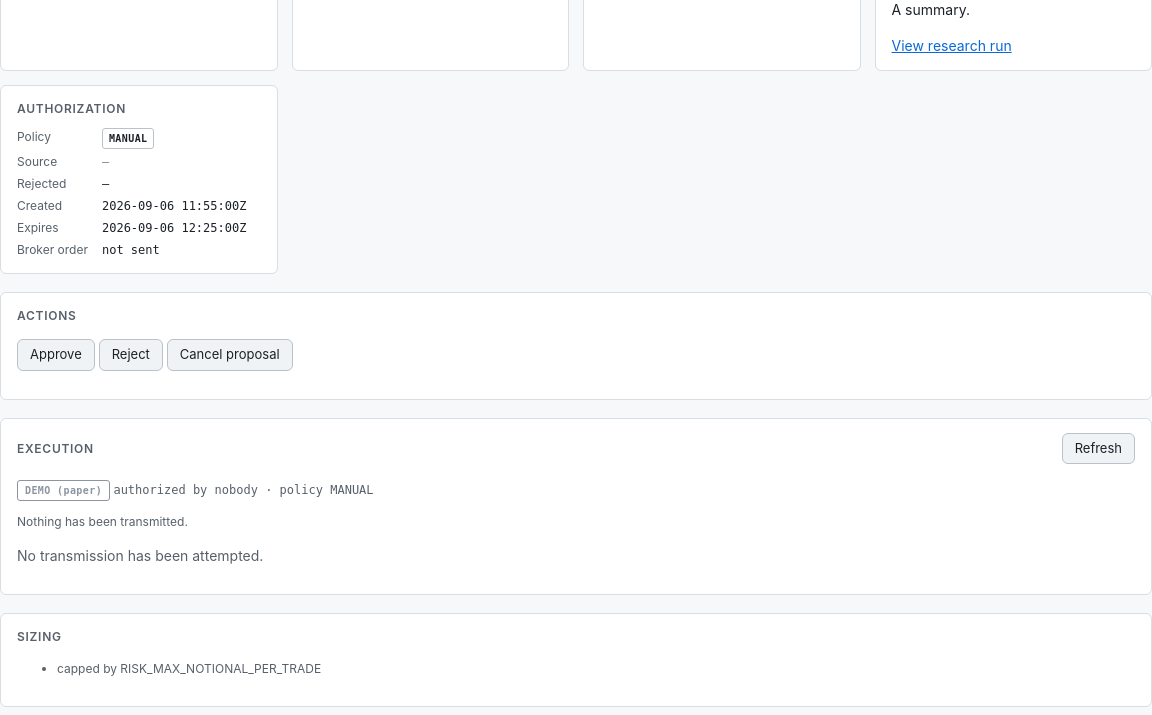
Test case: Proposal authorization › can be backed out of without sending anything
(page scrolled)
What coordinates should you click on to do the following:
click the button "Approve"
I would click on:
 (56, 355)
Its box is [17,339,95,371].
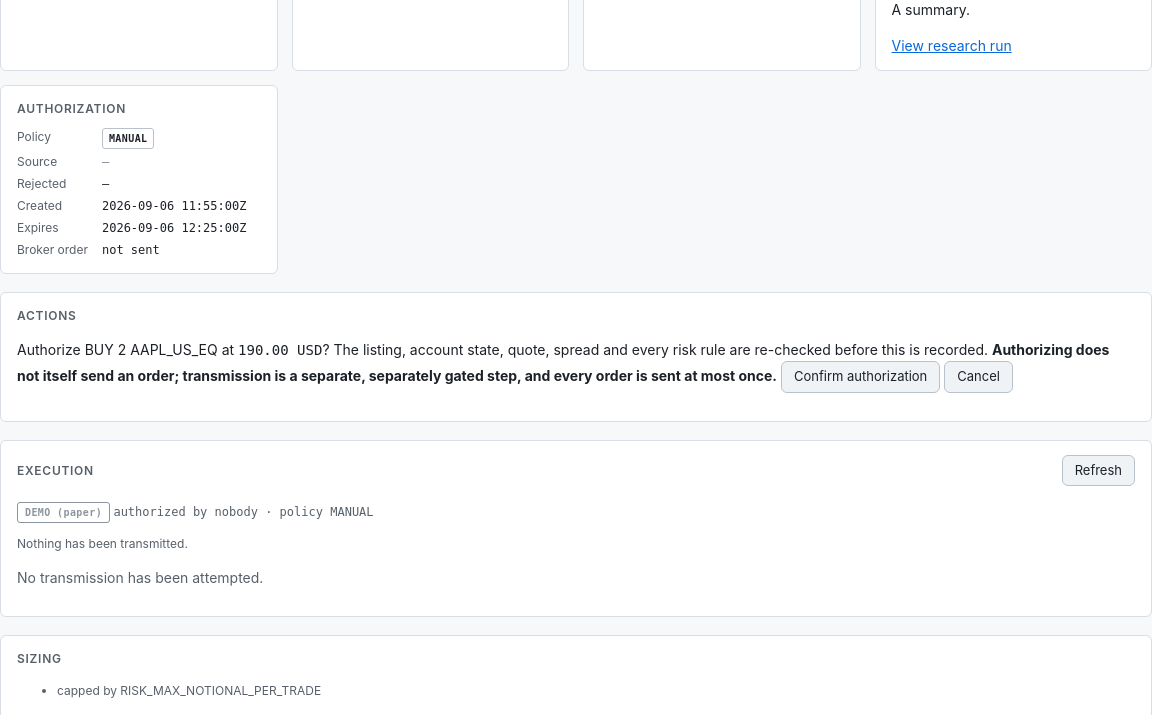
What coordinates should you click on to do the following:
click the button "Cancel"
I would click on:
 (979, 377)
Its box is [944,361,1013,393].
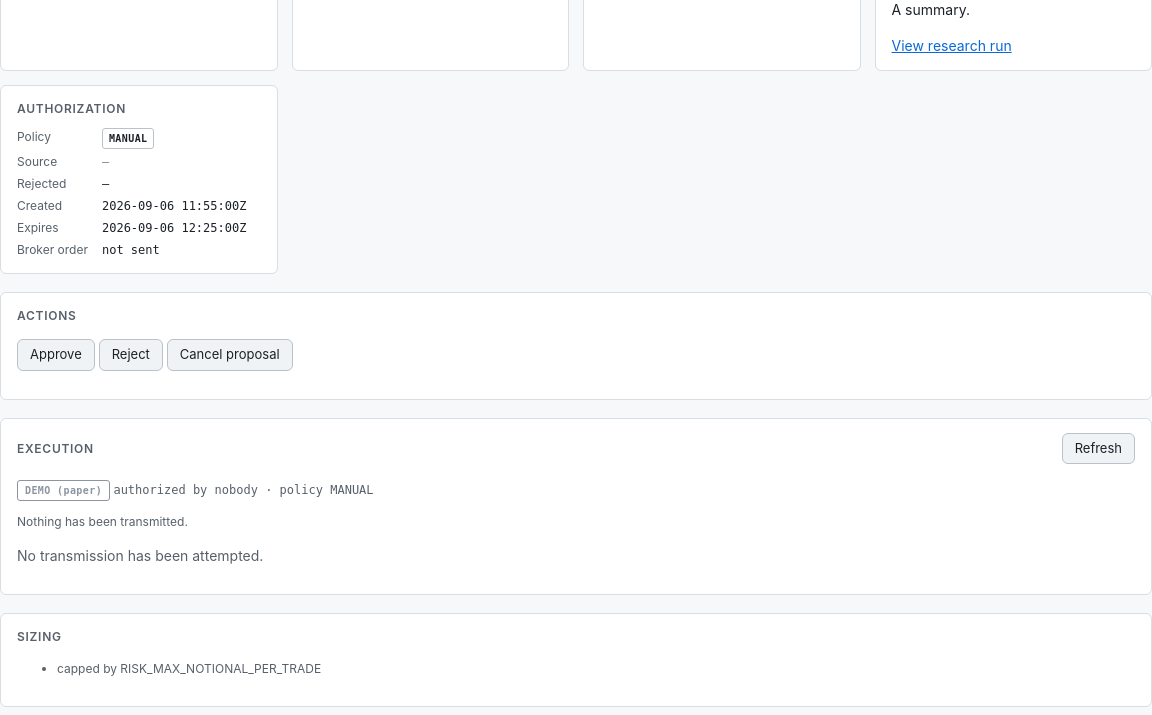
Expected: the button "Approve" is shown, [17,339,95,371]
